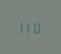one: (26, 19, 32, 34), (18, 19, 24, 33)
zero: (33, 20, 39, 34)
